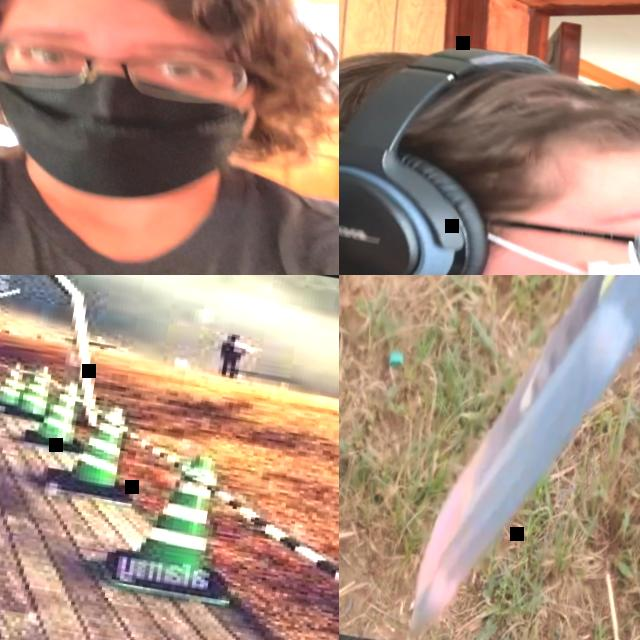Mask: (0, 53, 261, 220)
NO-Hardhat: (339, 5, 640, 243), (0, 0, 316, 67)
NO-Safety Vest: (0, 97, 339, 275), (218, 344, 241, 364)
Person: (0, 0, 339, 275), (339, 0, 640, 275), (214, 333, 251, 378)
Safety Cone: (101, 446, 252, 610), (35, 400, 154, 511), (22, 376, 101, 453), (8, 362, 68, 431), (0, 350, 37, 416)
